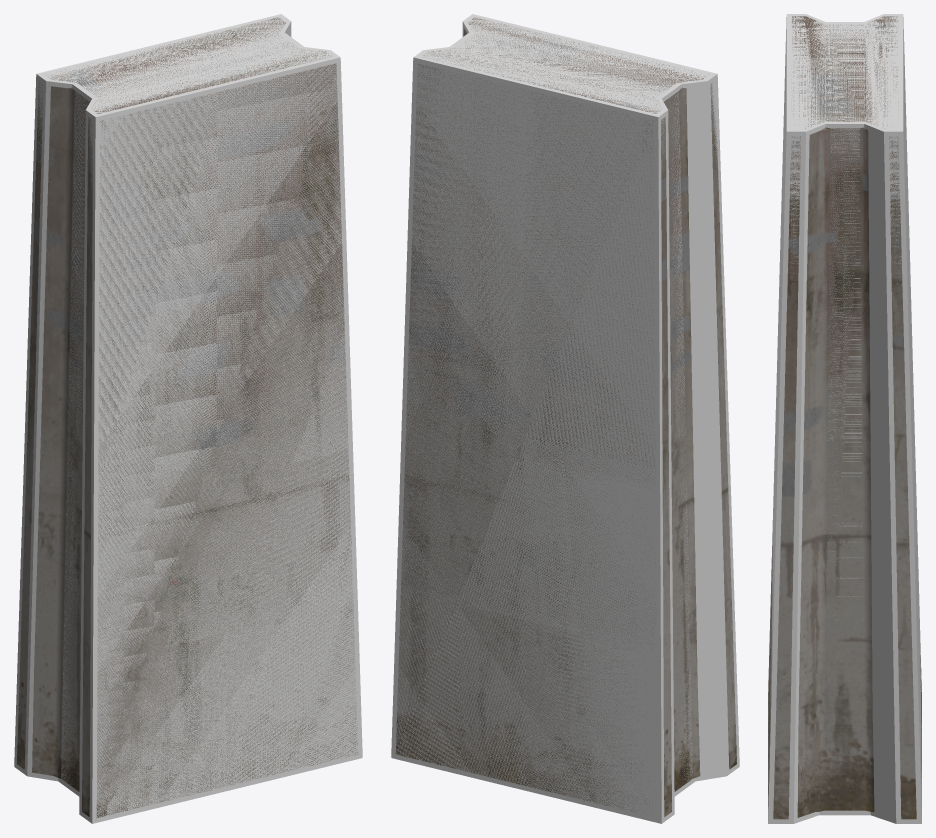
Rendered from s_quarry_pillar.dae.
3 renders of one model, left to right at view 1: azimuth 30°, elevation 25°; view 2: azimuth 150°, elevation 25°; view 3: azimuth 270°, elevation 25°, orthographic.
Visible parts, largest first — view 1: Colmesh-1, quarry_pillar_a200; view 2: Colmesh-1, quarry_pillar_a200; view 3: quarry_pillar_a200, Colmesh-1.
Boxes of the visible parts, left/top/right/bottom form: Colmesh-1: left=14, top=14, right=362, bottom=823; quarry_pillar_a200: left=17, top=17, right=357, bottom=817; Colmesh-1: left=391, top=14, right=739, bottom=823; quarry_pillar_a200: left=395, top=17, right=736, bottom=816; quarry_pillar_a200: left=768, top=16, right=921, bottom=819; Colmesh-1: left=768, top=14, right=921, bottom=823.
Bounding box in the file's own units: 2.17 × 1.09 × 5.35.
